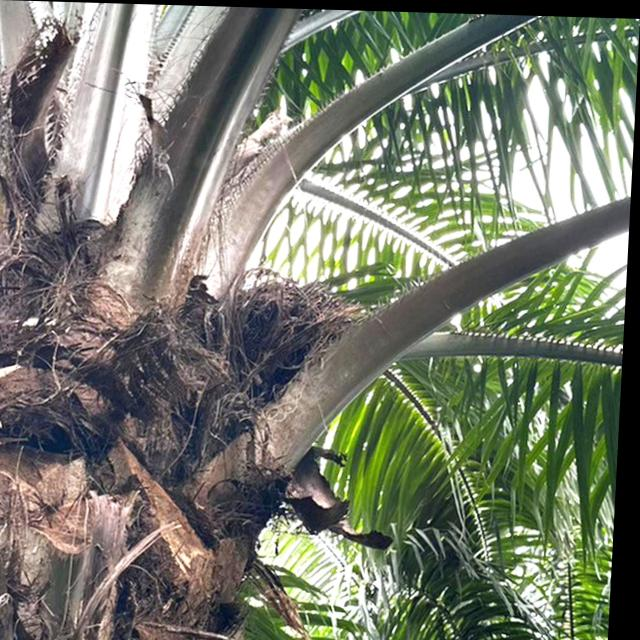unripe: (219, 261, 382, 419)
